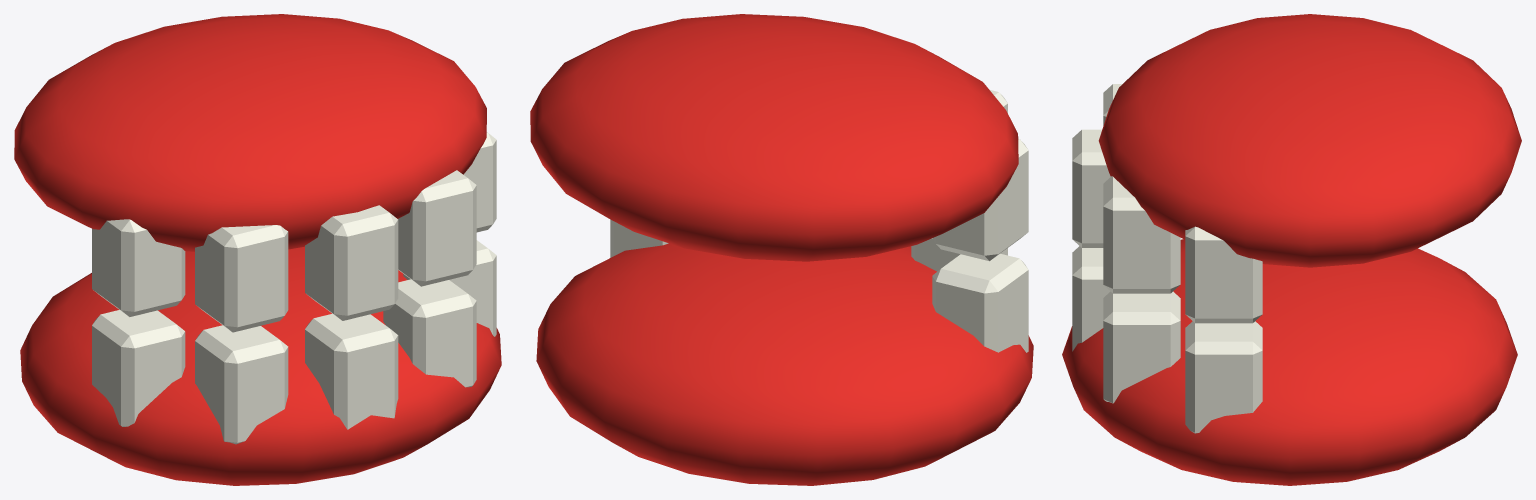
File: enemy-teeth.glb
3 views of the same model, side by side, from view 1: azimuth 30°, elevation 25°; view 2: azimuth 150°, elevation 25°; view 3: azimuth 270°, elevation 25° (orthographic). The views are drawn at different scales.
Visible parts, largest first — view 1: enemy-teeth; view 2: enemy-teeth; view 3: enemy-teeth.
Boxes of the visible parts, x1=… form: enemy-teeth: x1=14, y1=14, x2=501, y2=485; enemy-teeth: x1=530, y1=14, x2=1033, y2=485; enemy-teeth: x1=1062, y1=14, x2=1521, y2=485.
Bounding box in the file's own units: 0.6 × 0.5 × 0.565.
